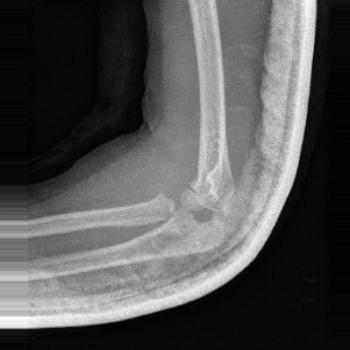Fracture: (156, 178, 223, 229)
